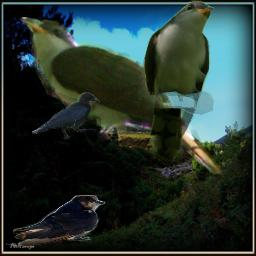Crow: (32, 92, 100, 140)
Cuckoo: (18, 17, 226, 175), (143, 0, 214, 165)
Swallow: (13, 195, 105, 246)
